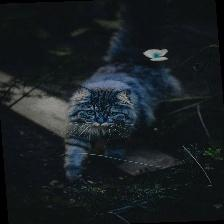kedo: (64, 85, 134, 178)
